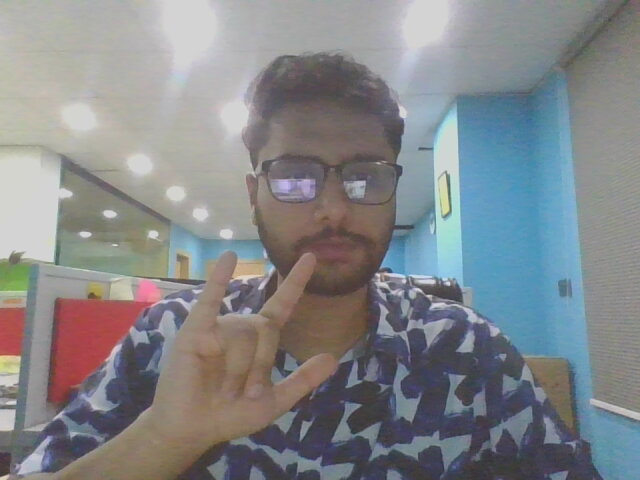iloveyou: (140, 244, 350, 453)
